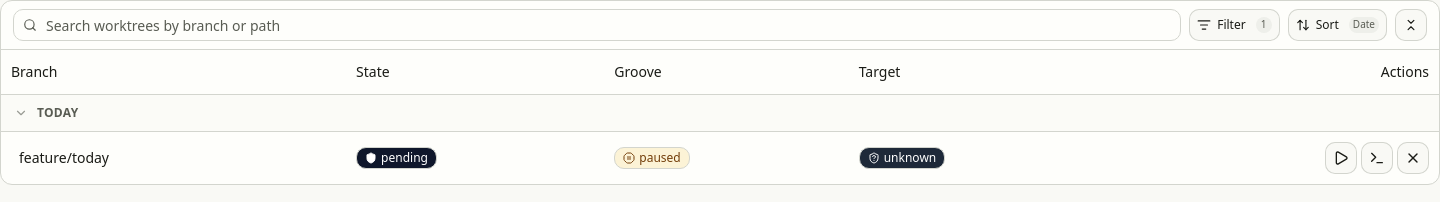
Test: WorktreesTable › keeps the Today group expanded by default and supports collapsing
This screenshot has width=1440, height=202.
Expected: the text "feature/today" is shown, [19,148,109,166]
Click the button named "Collapse Today section" at (21, 112), box [11,102,31,122]
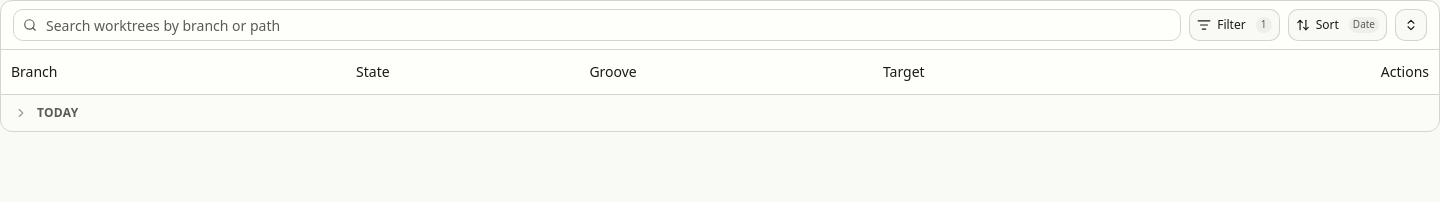
Result: the button "feature/today" is gone
Result: the button named "Expand Today section" is collapsed at [11,102,31,122]
